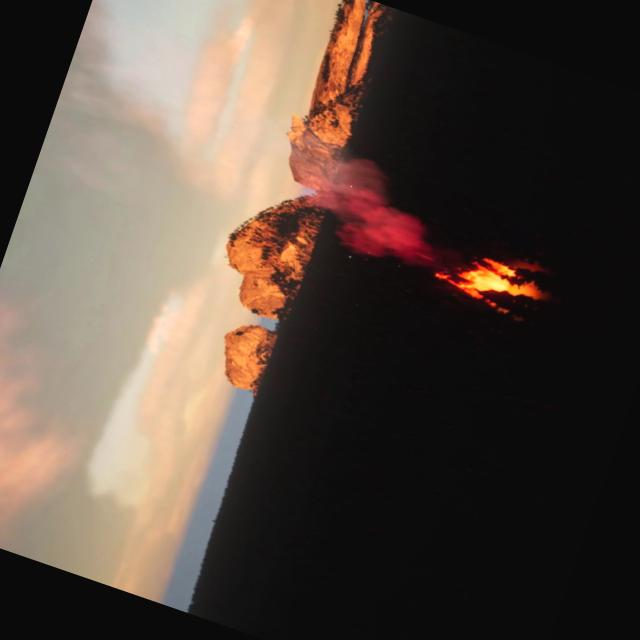fire: (424, 236, 529, 314)
smoke: (281, 140, 445, 272)
